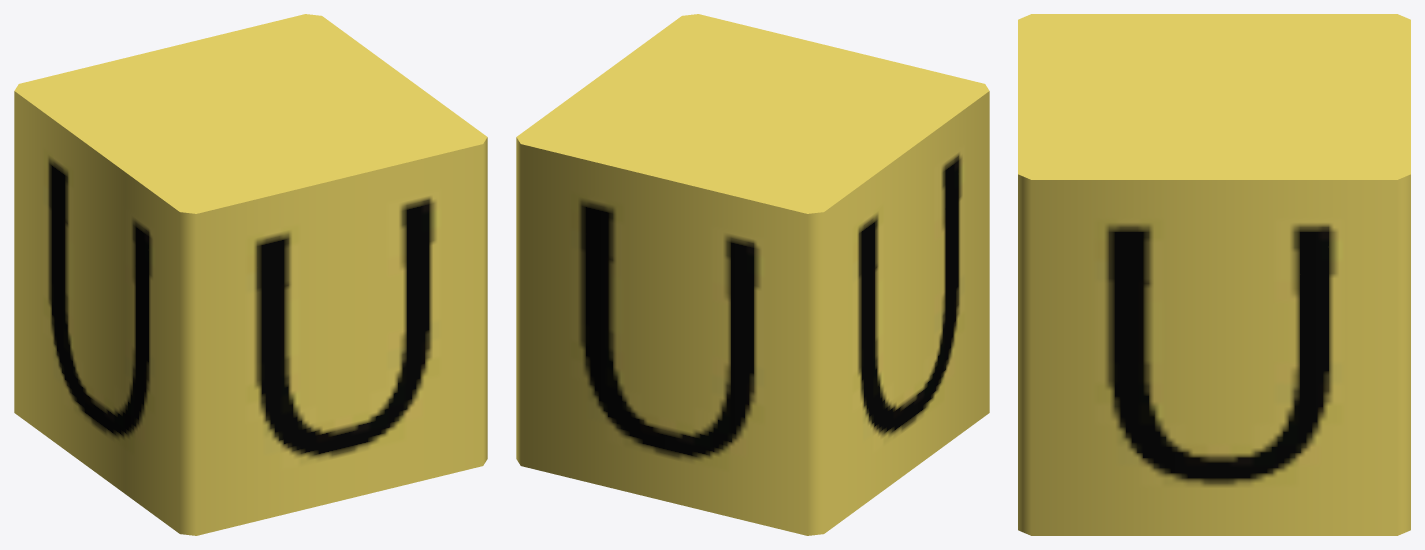
The model's file is blockU.dae.
3 renders of one model, left to right at view 1: azimuth 30°, elevation 25°; view 2: azimuth 150°, elevation 25°; view 3: azimuth 270°, elevation 25°, orthographic. The views are drawn at different scales.
Visible parts, largest first — view 1: pCube22; view 2: pCube22; view 3: pCube22.
Boxes of the visible parts, bbox=[...] form: pCube22: bbox=[14, 14, 487, 535]; pCube22: bbox=[516, 14, 989, 535]; pCube22: bbox=[1018, 14, 1410, 535].
Size of the model in its own units: 0.4263 by 0.4263 by 0.4263.
1 material, 1 textured.
